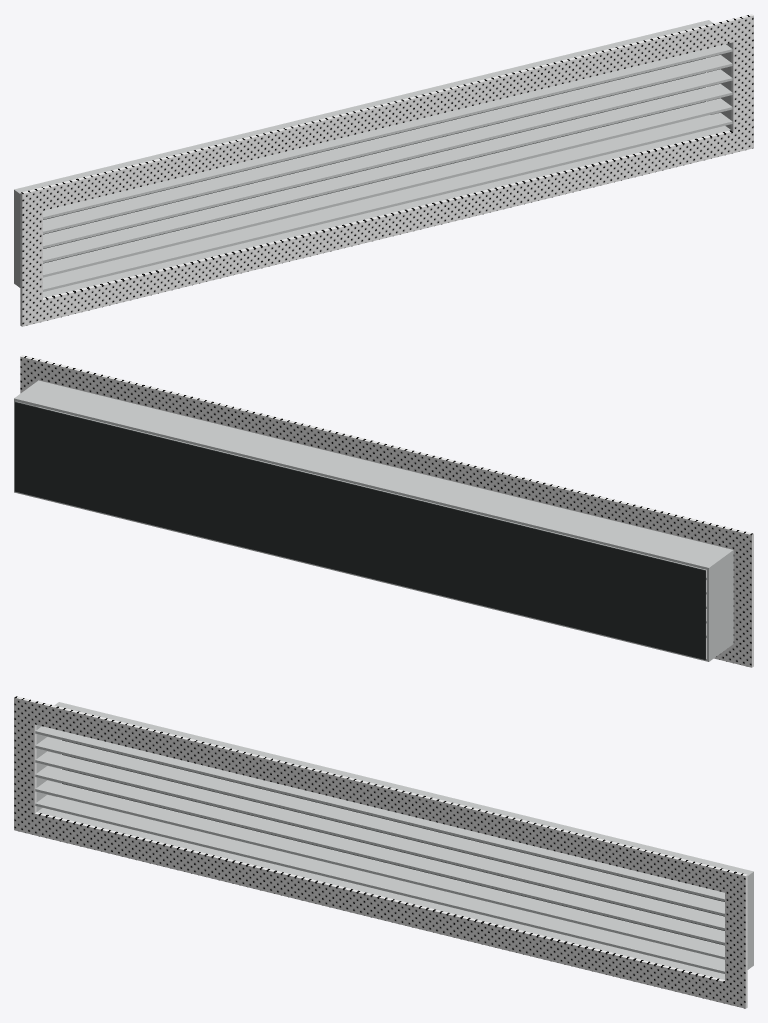
Rendered from ecoclima-ebls-600x75.glb.
The picture shows the model from 3 angles, top to bottom: view 1: azimuth 30°, elevation 25°; view 2: azimuth 150°, elevation 25°; view 3: azimuth 330°, elevation 25°; orthographic projection.
Visible parts, largest first — view 1: Profile_cornice, Profile_cornice.001, Profile_barra.002, Profile_barra.003, Profile_barra.004, Profile_barra.001, Profile_barra, Profile_barra.005, Profile_ritorno.001, Profile_ritorno, Interno, Profile_cornice.002 (+2 smaller); view 2: Interno, Profile_ritorno, Profile_cornice, Profile_ritorno.002, Profile_cornice.002, Profile_ritorno.001, Profile_barra.004, Profile_cornice.001; view 3: Profile_cornice, Profile_cornice.001, Profile_barra.002, Profile_barra.003, Profile_barra.004, Profile_barra.001, Profile_barra, Profile_barra.005, Profile_ritorno.001, Profile_ritorno, Interno, Profile_cornice.003 (+2 smaller).
Boxes of the visible parts, <box> form: Profile_cornice: <box>20,14,753,215</box>; Profile_cornice.001: <box>20,126,753,326</box>; Profile_barra.002: <box>43,84,732,262</box>; Profile_barra.003: <box>43,69,732,248</box>; Profile_barra.004: <box>43,55,732,233</box>; Profile_barra.001: <box>43,98,732,277</box>; Profile_barra: <box>43,113,732,291</box>; Profile_barra.005: <box>43,44,732,219</box>; Profile_ritorno.001: <box>14,115,730,297</box>; Profile_ritorno: <box>14,20,713,195</box>; Interno: <box>43,58,705,263</box>; Profile_cornice.002: <box>20,211,42,304</box>; Interno: <box>15,402,705,659</box>; Profile_ritorno: <box>14,380,733,570</box>; Profile_cornice: <box>20,355,753,556</box>; Profile_ritorno.002: <box>706,552,733,659</box>; Profile_cornice.002: <box>733,552,753,645</box>; Profile_ritorno.001: <box>14,490,733,661</box>; Profile_barra.004: <box>38,407,706,580</box>; Profile_cornice.001: <box>714,642,753,667</box>; Profile_cornice: <box>14,696,747,897</box>; Profile_cornice.001: <box>14,808,747,1008</box>; Profile_barra.002: <box>35,766,724,944</box>; Profile_barra.003: <box>35,751,724,930</box>; Profile_barra.004: <box>35,737,724,915</box>; Profile_barra.001: <box>35,780,724,959</box>; Profile_barra: <box>35,795,724,973</box>; Profile_barra.005: <box>35,726,724,901</box>; Profile_ritorno.001: <box>37,797,753,979</box>; Profile_ritorno: <box>54,702,753,877</box>; Interno: <box>62,740,724,945</box>; Profile_cornice.003: <box>725,893,747,986</box>.
Bounding box in the file's own units: 0.635 × 0.11 × 0.042.
3 materials, 1 textured.
